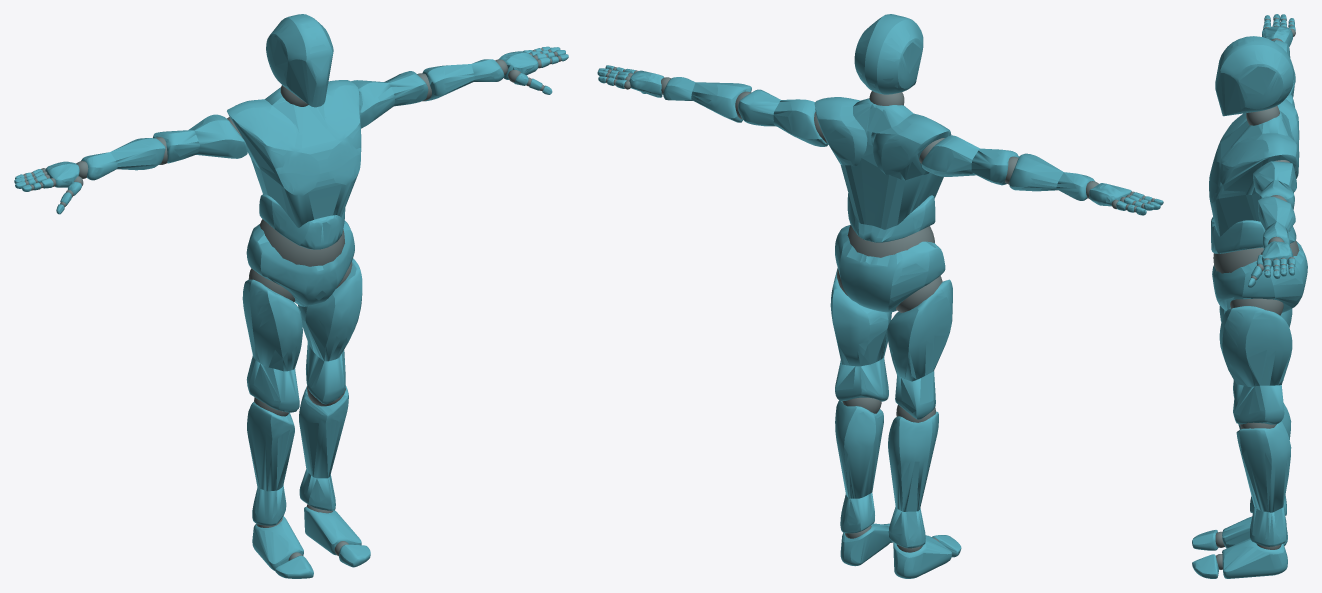
The model's file is converted_bot2.fbx.
3 renders of one model, left to right at view 1: azimuth 30°, elevation 25°; view 2: azimuth 150°, elevation 25°; view 3: azimuth 270°, elevation 25°, orthographic. The views are drawn at different scales.
Parts seen in each view (by area): view 1: Head, Alpha_Joints, Rl1, Spine2.001, Hips, Ll1, RShoulder.001, Rl2, Ll2, Spine2, Spine, LShoulder.001 (+13 smaller); view 2: Hips, Alpha_Joints, Head, Rl1, Spine2.001, Rl2, Ll2, Ll1, RShoulder.001, LShoulder.001, Ll1.001, Spine (+12 smaller); view 3: Head, Ll1, Ll2, Hips, LShoulder.001, Alpha_Joints, Ll3, Ll1.001, Spine2.001, Spine, Ll2.001, La1.001 (+13 smaller).
Boxes of the visible parts, left/top/right/bottom form: Head: left=266, top=14, right=333, bottom=107; Alpha_Joints: left=23, top=48, right=561, bottom=560; Rl1: left=242, top=279, right=302, bottom=371; Spine2.001: left=251, top=151, right=361, bottom=227; Hips: left=246, top=220, right=354, bottom=306; Ll1: left=298, top=258, right=362, bottom=361; RShoulder.001: left=227, top=99, right=301, bottom=173; Rl2: left=247, top=402, right=294, bottom=491; Ll2: left=299, top=385, right=348, bottom=478; Spine2: left=275, top=106, right=361, bottom=178; Spine: left=259, top=194, right=345, bottom=249; LShoulder.001: left=324, top=80, right=361, bottom=148; Hips: left=835, top=225, right=945, bottom=312; Alpha_Joints: left=605, top=67, right=1154, bottom=552; Head: left=854, top=14, right=923, bottom=94; Rl1: left=887, top=279, right=952, bottom=381; Spine2.001: left=840, top=158, right=943, bottom=229; Rl2: left=888, top=411, right=938, bottom=511; Ll2: left=835, top=400, right=883, bottom=498; Ll1: left=830, top=268, right=891, bottom=366; RShoulder.001: left=873, top=113, right=951, bottom=180; LShoulder.001: left=814, top=97, right=867, bottom=166; Ll1.001: left=835, top=357, right=888, bottom=401; Spine: left=847, top=193, right=935, bottom=242; Head: left=1215, top=36, right=1293, bottom=116; Ll1: left=1219, top=306, right=1292, bottom=386; Ll2: left=1236, top=421, right=1291, bottom=512; Hips: left=1212, top=241, right=1307, bottom=312; LShoulder.001: left=1218, top=133, right=1299, bottom=194; Alpha_Joints: left=1213, top=17, right=1299, bottom=569; Ll3: left=1222, top=538, right=1287, bottom=578; Ll1.001: left=1233, top=384, right=1284, bottom=424; Spine2.001: left=1209, top=172, right=1290, bottom=236; Spine: left=1211, top=217, right=1296, bottom=253; Ll2.001: left=1250, top=506, right=1286, bottom=546; La1.001: left=1253, top=161, right=1296, bottom=194.
Bounding box in the file's own units: 195 × 180 × 36.43.
